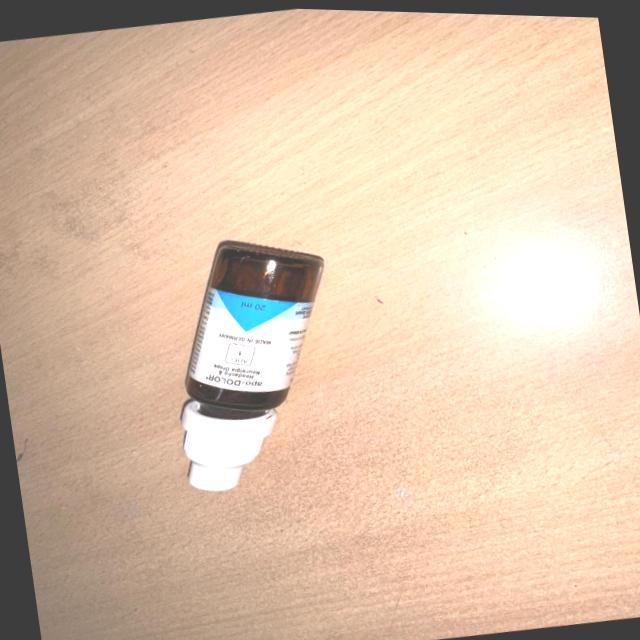medicine: (155, 235, 332, 496)
